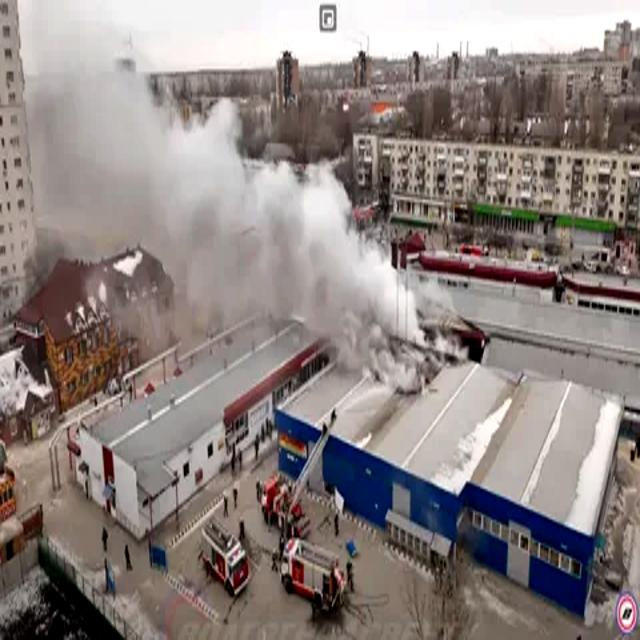no_helmet: (42, 68, 468, 388)
